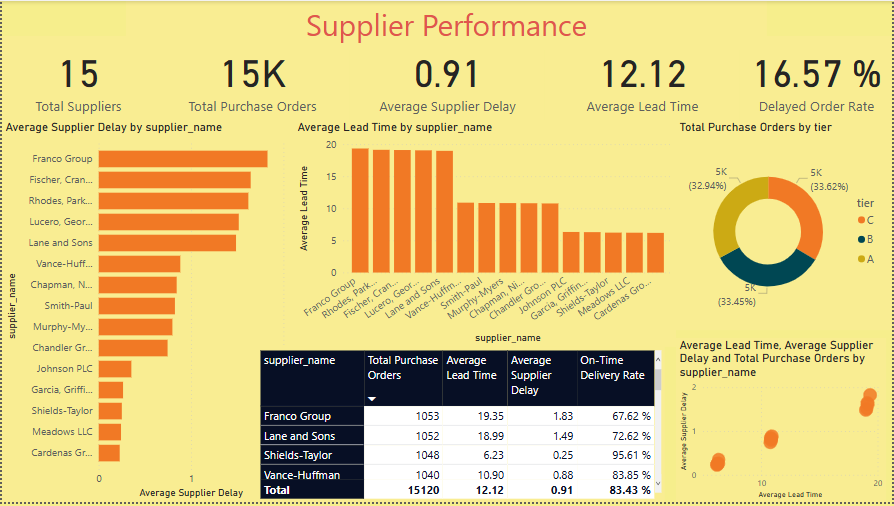

Layout of this report page (visuals, bound fields, positions):
{"tool":"powerbi","page":{"name":"Supplier Performance Analytics","canvas":[1280,720],"ordinal":1},"visuals":[{"type":"card","fields":{"Values":["MEASURE.Average Lead Time"]},"box":[780.4,50.3,280.2,120.7],"z":0},{"type":"card","fields":{"Values":["MEASURE.Average Supplier Delay"]},"box":[500.1,50.3,280.2,120.7],"z":1000},{"type":"card","fields":{"Values":["MEASURE.Total Purchase Orders"]},"box":[219.9,50.3,280.2,120.7],"z":2000},{"type":"card","fields":{"Values":["MEASURE.Total Suppliers"]},"box":[0,50.3,219.9,120.7],"z":3000},{"type":"clusteredBarChart","fields":{"Category":["dim_supplier.supplier_name"],"Y":["MEASURE.Average Supplier Delay"]},"box":[0,171,419.6,549],"z":4000},{"type":"clusteredColumnChart","fields":{"Y":["MEASURE.Average Lead Time"],"Category":["dim_supplier.supplier_name"]},"box":[419.6,171,549,326.2],"z":5000},{"type":"scatterChart","fields":{"X":["MEASURE.Average Lead Time"],"Y":["MEASURE.Average Supplier Delay"],"Category":["dim_supplier.supplier_name"],"Size":["MEASURE.Total Purchase Orders"]},"box":[968.6,484.3,301.8,235.7],"z":6000},{"type":"donutChart","fields":{"Category":["dim_supplier.tier"],"Y":["MEASURE.Total Purchase Orders"]},"box":[968.6,171,311.9,301.8],"z":7000},{"type":"pivotTable","fields":{"Rows":["dim_supplier.supplier_name"],"Values":["MEASURE.Total Purchase Orders","MEASURE.Average Lead Time","MEASURE.Average Supplier Delay","MEASURE.On-Time Delivery Rate"]},"box":[366.5,497.2,586.3,222.8],"z":8000},{"type":"card","fields":{"Values":["MEASURE.Delayed Order Rate"]},"box":[1060.6,50.3,219.9,120.7],"z":9000},{"type":"textbox","box":[178.2,0,921.2,70.4],"z":9001}]}

Visuals, with their boxes in screenshot pixels (x1, y1, x2, y2), scaled from the page's 1280x720 canvas onto the 894x506 screenshot:
card - MEASURE.Average Lead Time: (545,35,741,120)
card - MEASURE.Average Supplier Delay: (349,35,545,120)
card - MEASURE.Total Purchase Orders: (154,35,349,120)
card - MEASURE.Total Suppliers: (0,35,154,120)
clusteredBarChart - dim_supplier.supplier_name x MEASURE.Average Supplier Delay: (0,120,293,505)
clusteredColumnChart - MEASURE.Average Lead Time x dim_supplier.supplier_name: (293,120,677,349)
scatterChart - MEASURE.Average Lead Time x MEASURE.Average Supplier Delay: (677,340,887,505)
donutChart - dim_supplier.tier x MEASURE.Total Purchase Orders: (677,120,893,332)
pivotTable - dim_supplier.supplier_name x MEASURE.Total Purchase Orders: (256,349,665,505)
card - MEASURE.Delayed Order Rate: (741,35,893,120)
textbox: (124,0,768,49)
